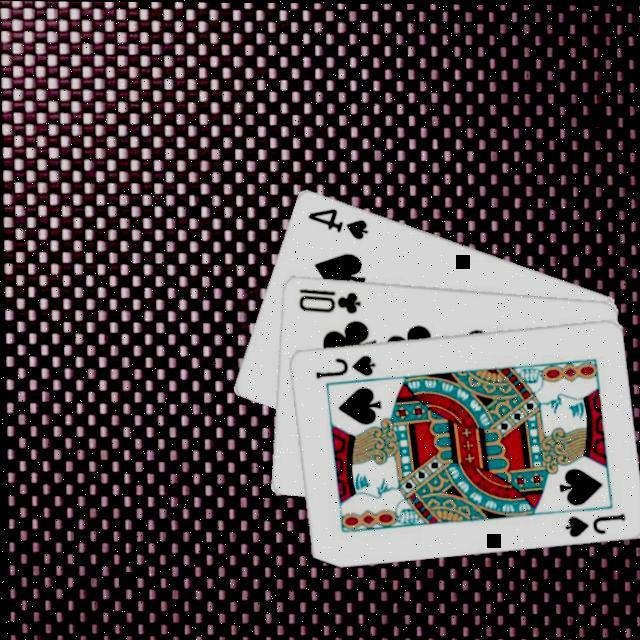10C: (292, 282, 362, 313)
4S: (302, 202, 368, 240)
JS: (310, 348, 376, 379), (559, 506, 625, 536)
